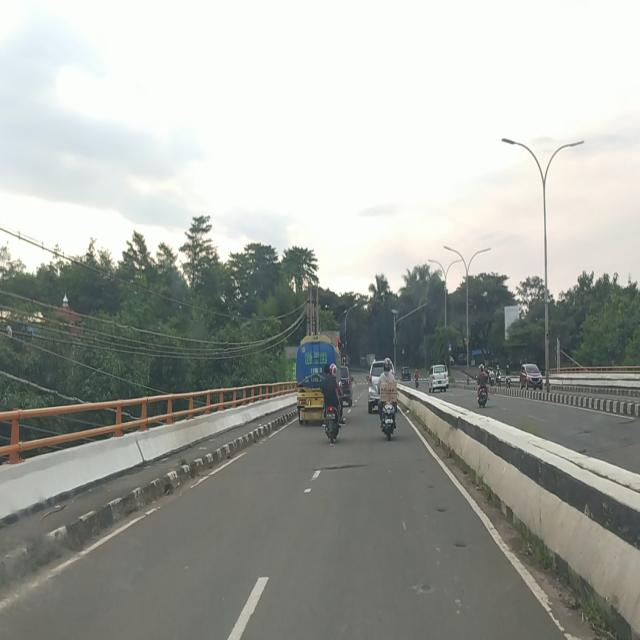Sewer Cover: (313, 462, 373, 473)
